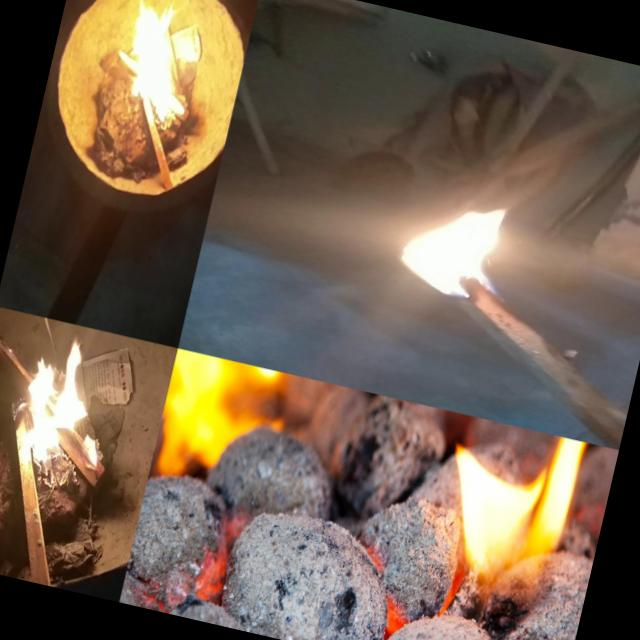fire: (426, 414, 618, 628), (377, 177, 532, 315), (3, 324, 129, 481), (153, 348, 288, 479), (111, 0, 210, 135)
